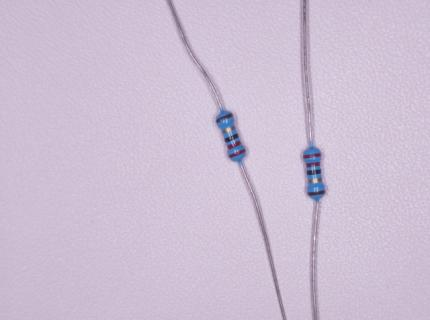Black band: (224, 133, 239, 143), (307, 170, 321, 175)
Brown band: (216, 113, 233, 124), (307, 191, 325, 196)
Gold band: (221, 125, 236, 135), (308, 178, 322, 183)
Red band: (229, 148, 246, 158), (227, 140, 241, 150), (303, 153, 321, 158), (306, 162, 320, 167)
